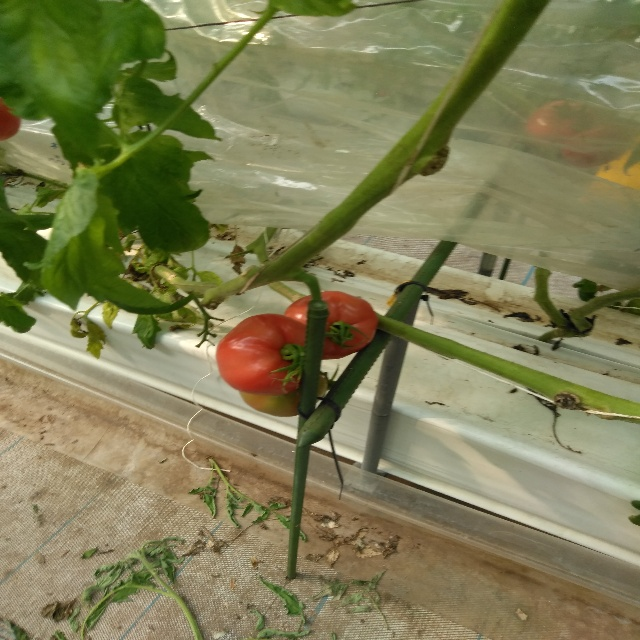b_fully_ripened: (215, 313, 308, 396), (282, 290, 378, 361)
b_half_ripened: (238, 361, 326, 418)
